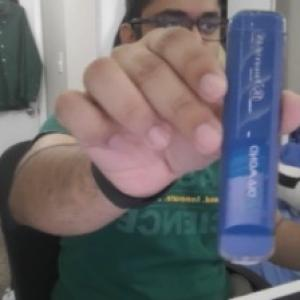Diamond-E-Ciggirate: (216, 9, 285, 266)
